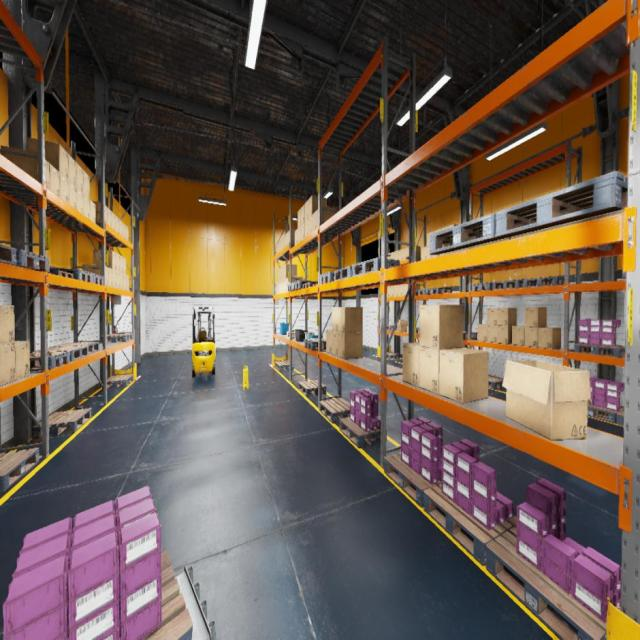box: (502, 359, 592, 440), (439, 347, 488, 403), (0, 145, 50, 189), (419, 304, 463, 350), (27, 137, 68, 180), (419, 346, 440, 394), (402, 342, 419, 387), (338, 332, 362, 360), (0, 344, 15, 386), (15, 340, 30, 380), (0, 305, 15, 345), (338, 307, 362, 332), (82, 264, 109, 286), (538, 328, 561, 350), (94, 248, 116, 270), (317, 205, 336, 228), (525, 308, 547, 327), (308, 196, 326, 218), (497, 325, 516, 344), (50, 162, 60, 196), (92, 201, 107, 223), (498, 308, 516, 325), (524, 327, 538, 347), (60, 172, 68, 204), (68, 154, 76, 186), (68, 180, 76, 209), (512, 326, 524, 345), (76, 162, 83, 193), (76, 188, 84, 214), (289, 276, 302, 292), (284, 264, 297, 279), (83, 194, 90, 219), (487, 325, 497, 342), (487, 308, 497, 325), (83, 170, 89, 198), (478, 324, 487, 341), (332, 331, 338, 356), (326, 330, 332, 354), (332, 307, 338, 331), (408, 283, 420, 295), (397, 320, 408, 332), (409, 246, 420, 258), (90, 200, 95, 223), (289, 229, 296, 244), (107, 207, 112, 227), (304, 200, 308, 222), (312, 210, 316, 231), (308, 214, 312, 235), (427, 232, 433, 246), (304, 218, 308, 238), (297, 208, 301, 228), (427, 247, 433, 260), (421, 247, 427, 260), (116, 253, 120, 272), (115, 215, 119, 233), (112, 270, 116, 288), (116, 271, 120, 289), (119, 219, 123, 236), (123, 274, 127, 290), (297, 226, 301, 242), (301, 204, 304, 225), (398, 249, 403, 261), (112, 211, 115, 230), (120, 255, 123, 274), (403, 284, 408, 295), (389, 286, 394, 297), (109, 268, 112, 286), (120, 272, 123, 290), (404, 247, 408, 260), (301, 223, 304, 240), (123, 258, 126, 274), (439, 244, 443, 256), (286, 231, 289, 246), (398, 285, 402, 296), (447, 224, 458, 228), (126, 226, 129, 240), (394, 286, 398, 296), (394, 251, 398, 260), (123, 222, 125, 238), (127, 275, 129, 290), (295, 229, 297, 244), (286, 277, 288, 292), (282, 236, 284, 250), (278, 268, 280, 282), (390, 252, 394, 259), (439, 227, 446, 231), (284, 234, 286, 247), (278, 240, 280, 253), (284, 279, 286, 292), (282, 280, 284, 293), (278, 281, 280, 294), (276, 242, 278, 254), (276, 282, 278, 294), (433, 229, 439, 233), (387, 286, 389, 297), (432, 254, 439, 257), (287, 332, 292, 336), (282, 265, 283, 280), (280, 238, 281, 252), (280, 280, 281, 294), (280, 267, 281, 281), (292, 329, 298, 331), (388, 253, 390, 259), (292, 334, 294, 337)
forklift: (192, 307, 215, 377)
pallets: (486, 525, 620, 639), (496, 172, 628, 239), (424, 483, 516, 566), (119, 552, 193, 640), (430, 214, 510, 255), (384, 452, 441, 508), (33, 408, 91, 438), (0, 448, 39, 492), (339, 417, 386, 448), (30, 345, 88, 362), (352, 258, 400, 276), (15, 249, 50, 272), (30, 351, 70, 371), (319, 398, 350, 422), (588, 404, 624, 424), (574, 344, 625, 357), (49, 341, 99, 354), (49, 268, 92, 283), (523, 276, 564, 288), (102, 374, 134, 389), (298, 380, 326, 396), (334, 266, 360, 281), (0, 244, 16, 264), (493, 280, 523, 290), (101, 333, 133, 342), (304, 338, 326, 350), (293, 280, 318, 290), (488, 376, 504, 389), (426, 287, 452, 294), (275, 361, 294, 370), (320, 272, 334, 284), (472, 284, 493, 292), (92, 273, 104, 285), (616, 411, 624, 426), (288, 284, 302, 292), (415, 289, 436, 294), (386, 352, 399, 359), (464, 332, 476, 339), (381, 326, 397, 330), (622, 268, 626, 278), (416, 328, 420, 334)
